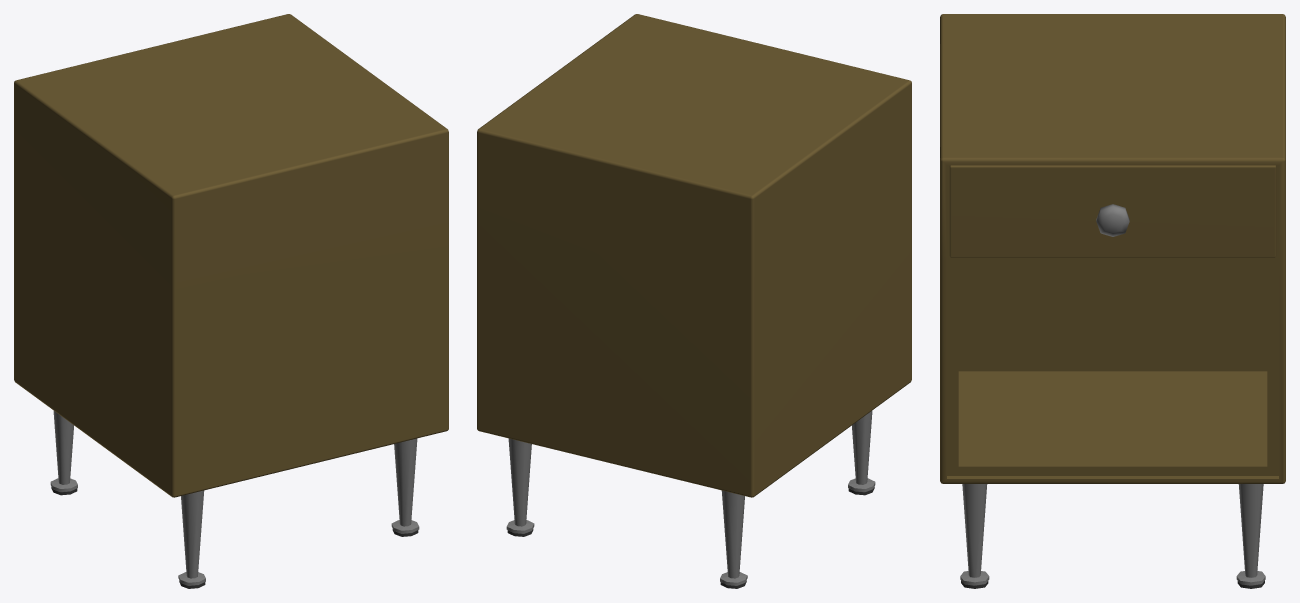
Rendered from Nightstand_02.fbx.
The picture shows the model from 3 angles, left to right: view 1: azimuth 30°, elevation 25°; view 2: azimuth 150°, elevation 25°; view 3: azimuth 270°, elevation 25°; orthographic projection. The views are drawn at different scales.
Parts seen in each view (by area): view 1: NightStand_Body_02, NightStand_Feet_02; view 2: NightStand_Body_02, NightStand_Feet_02; view 3: NightStand_Body_02, NightStand_Feet_02.
Part boxes in pixels (left/top/right/bottom): NightStand_Body_02: left=14, top=14, right=448, bottom=497; NightStand_Feet_02: left=50, top=411, right=419, bottom=588; NightStand_Body_02: left=477, top=14, right=911, bottom=497; NightStand_Feet_02: left=506, top=411, right=875, bottom=588; NightStand_Body_02: left=940, top=14, right=1285, bottom=483; NightStand_Feet_02: left=960, top=484, right=1265, bottom=588.
Size of the model in its own units: 42.61 by 55.35 by 39.48.
